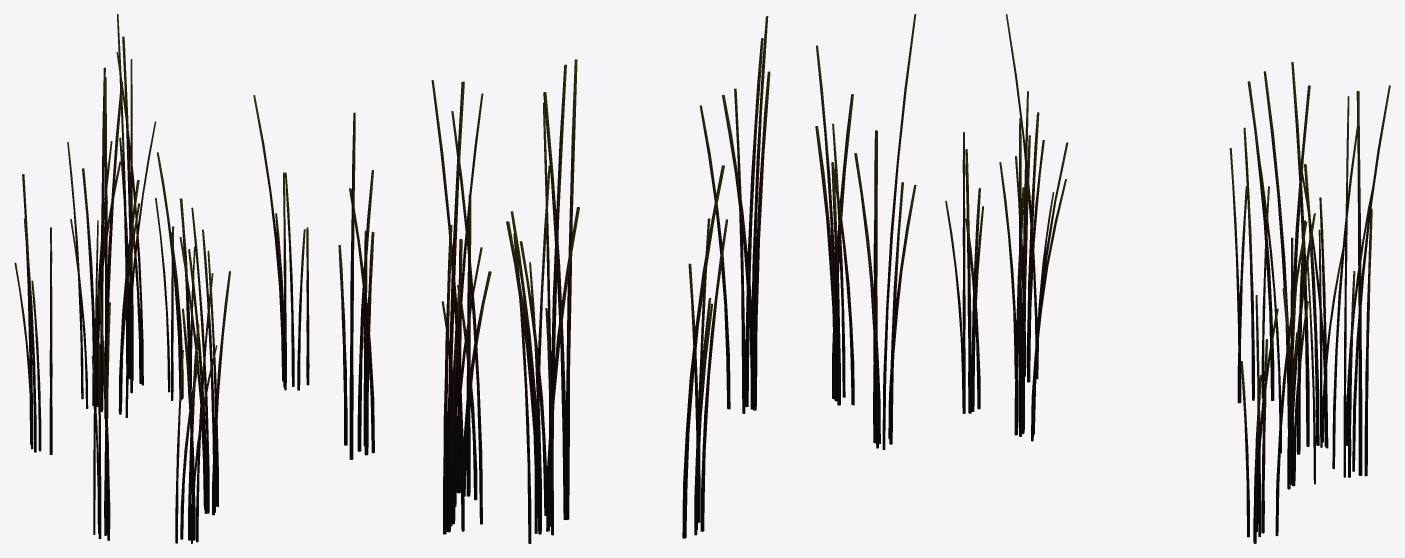
Rendered from patch_bamboo_far.glb.
3 renders of one model, left to right at view 1: azimuth 30°, elevation 25°; view 2: azimuth 150°, elevation 25°; view 3: azimuth 270°, elevation 25°, orthographic. The views are drawn at different scales.
Visible parts, largest first — view 1: patch_bamboo_far; view 2: patch_bamboo_far; view 3: patch_bamboo_far.
Boxes of the visible parts, bbox=[...] form: patch_bamboo_far: bbox=[14, 14, 309, 543]; patch_bamboo_far: bbox=[338, 14, 916, 543]; patch_bamboo_far: bbox=[945, 14, 1390, 543].
Bounding box in the file's own units: 8.22 × 8.55 × 8.87.
1 material, 1 textured.
